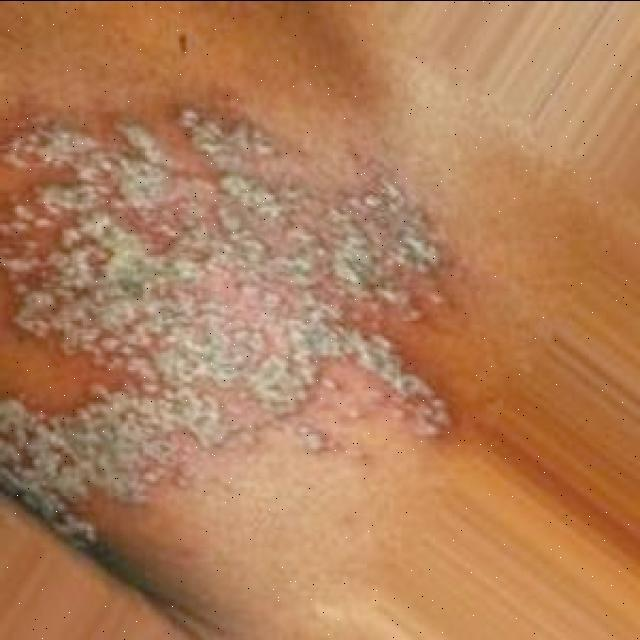Shingles: (0, 95, 456, 548)
